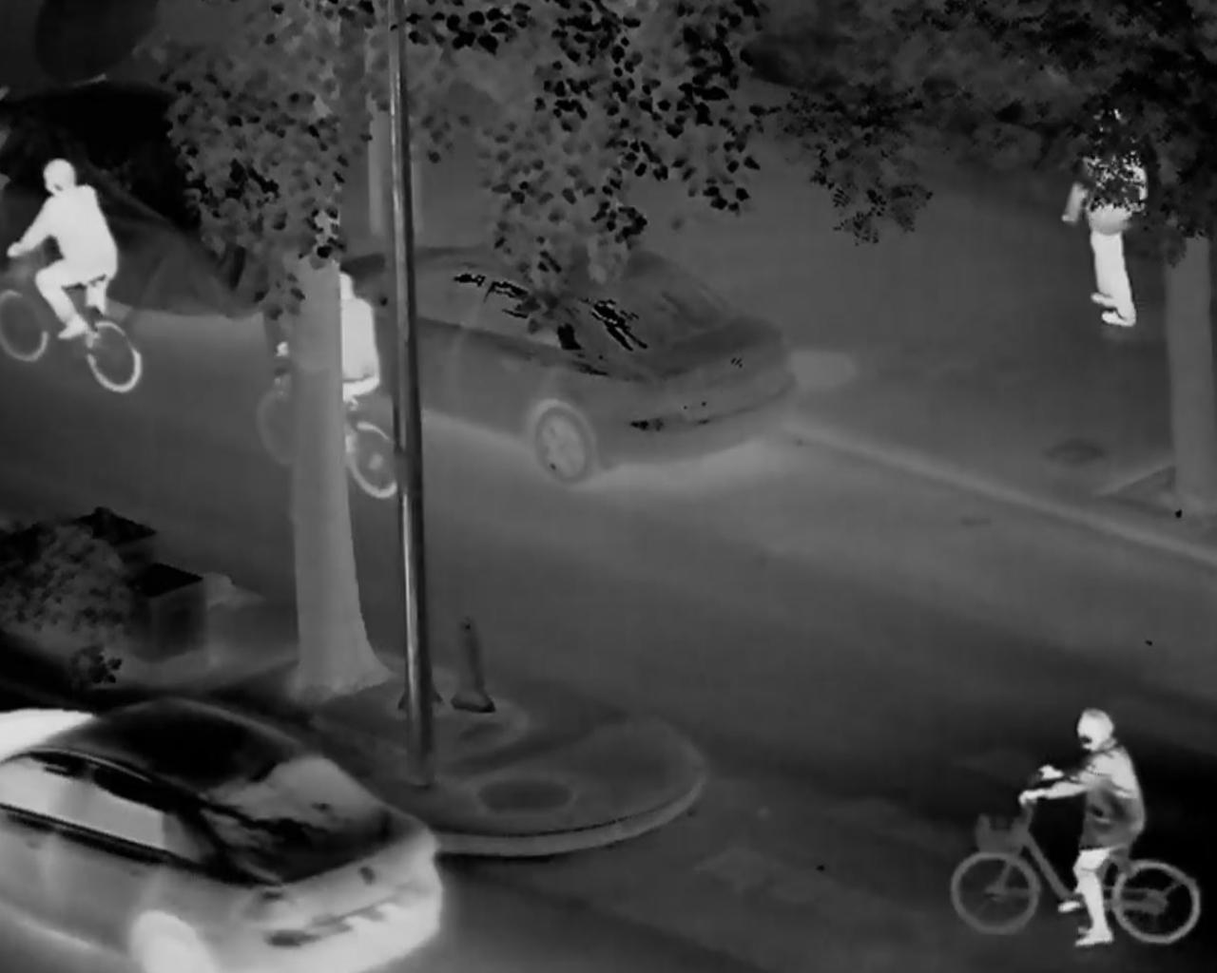person: (1019, 706, 1147, 946), (1058, 100, 1149, 332), (8, 160, 117, 350), (274, 269, 379, 454)
